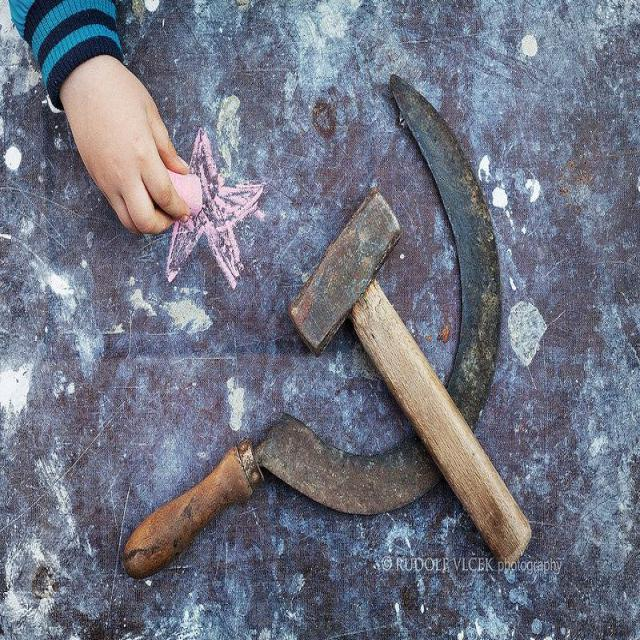hammer: (286, 186, 534, 574)
